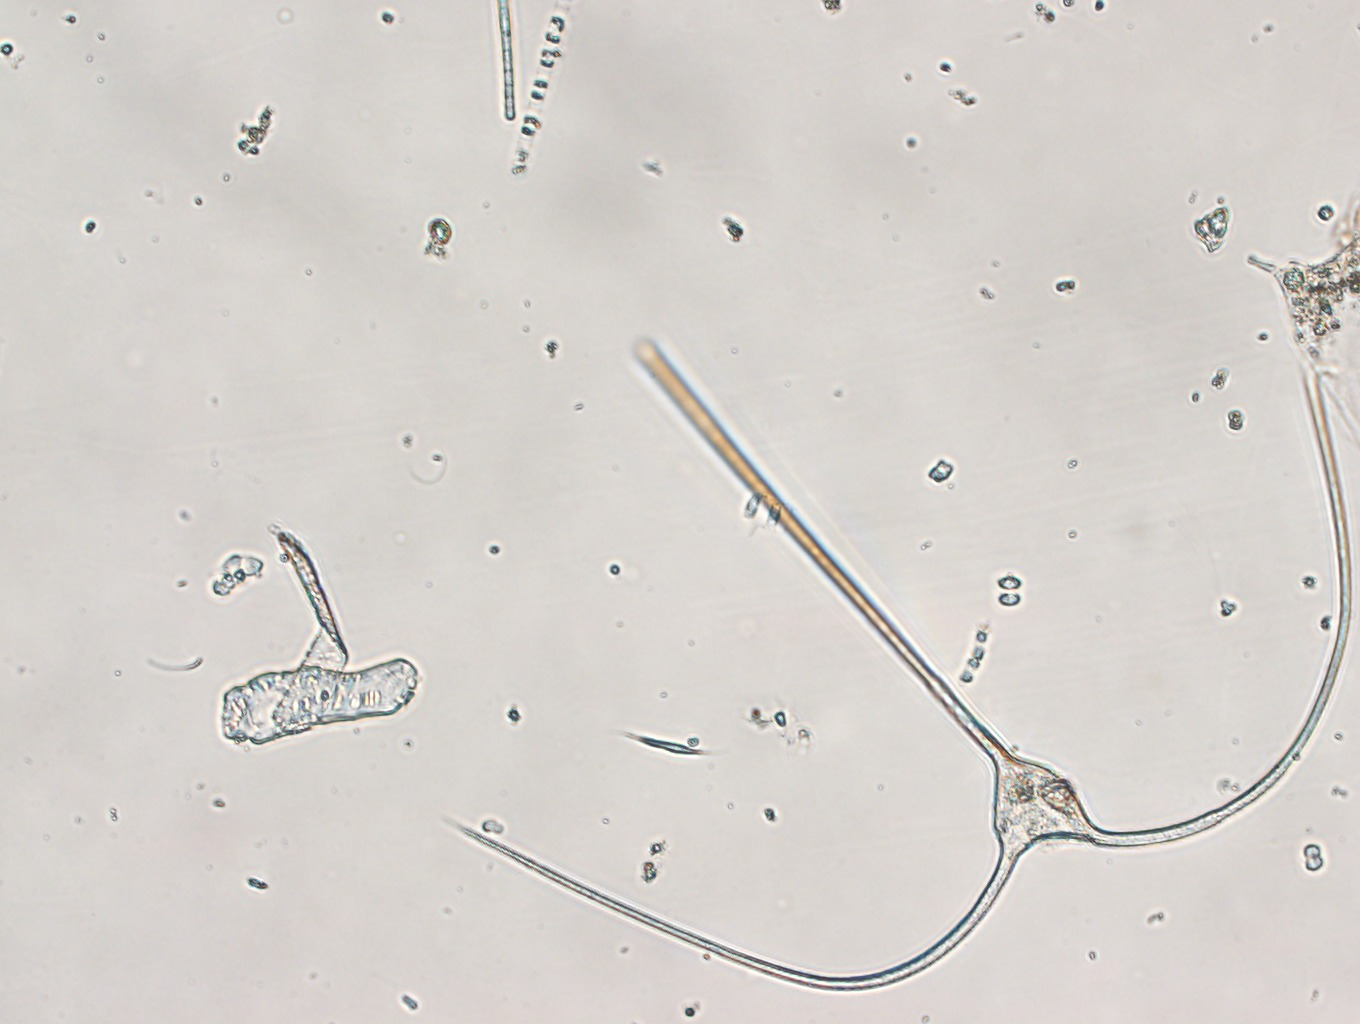ceratium trichoceros: (453, 339, 1349, 993)
skeletonema: (509, 1, 568, 182)
